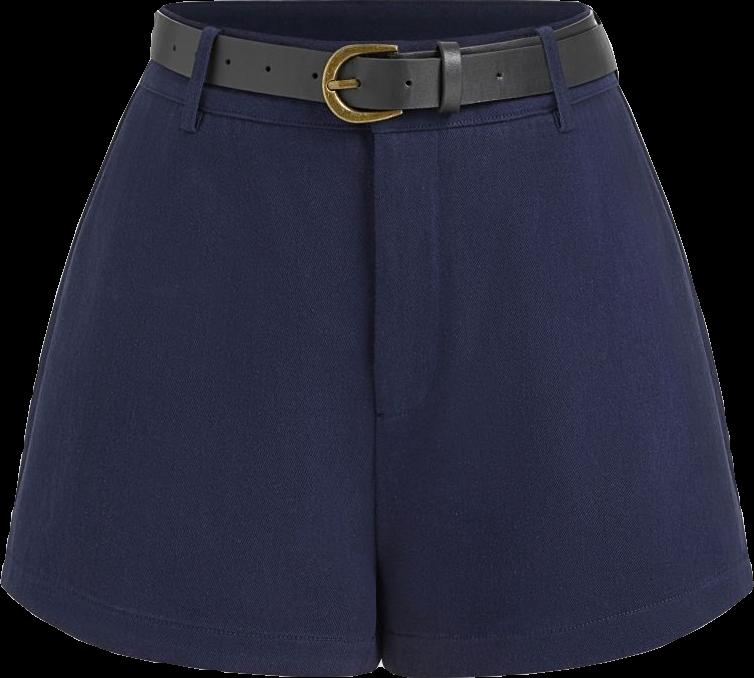Hemline: (0, 576, 381, 677), (380, 581, 753, 677)
Pantleg: (376, 0, 753, 677), (1, 0, 378, 675)
Waistline: (139, 79, 621, 135), (165, 5, 591, 48)
